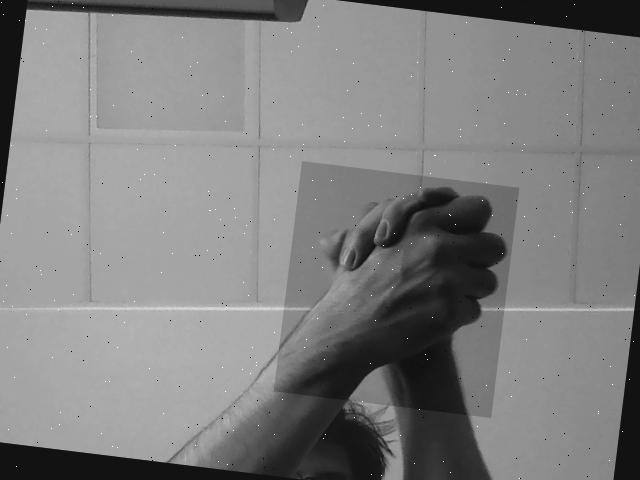friend: (279, 181, 513, 407)
